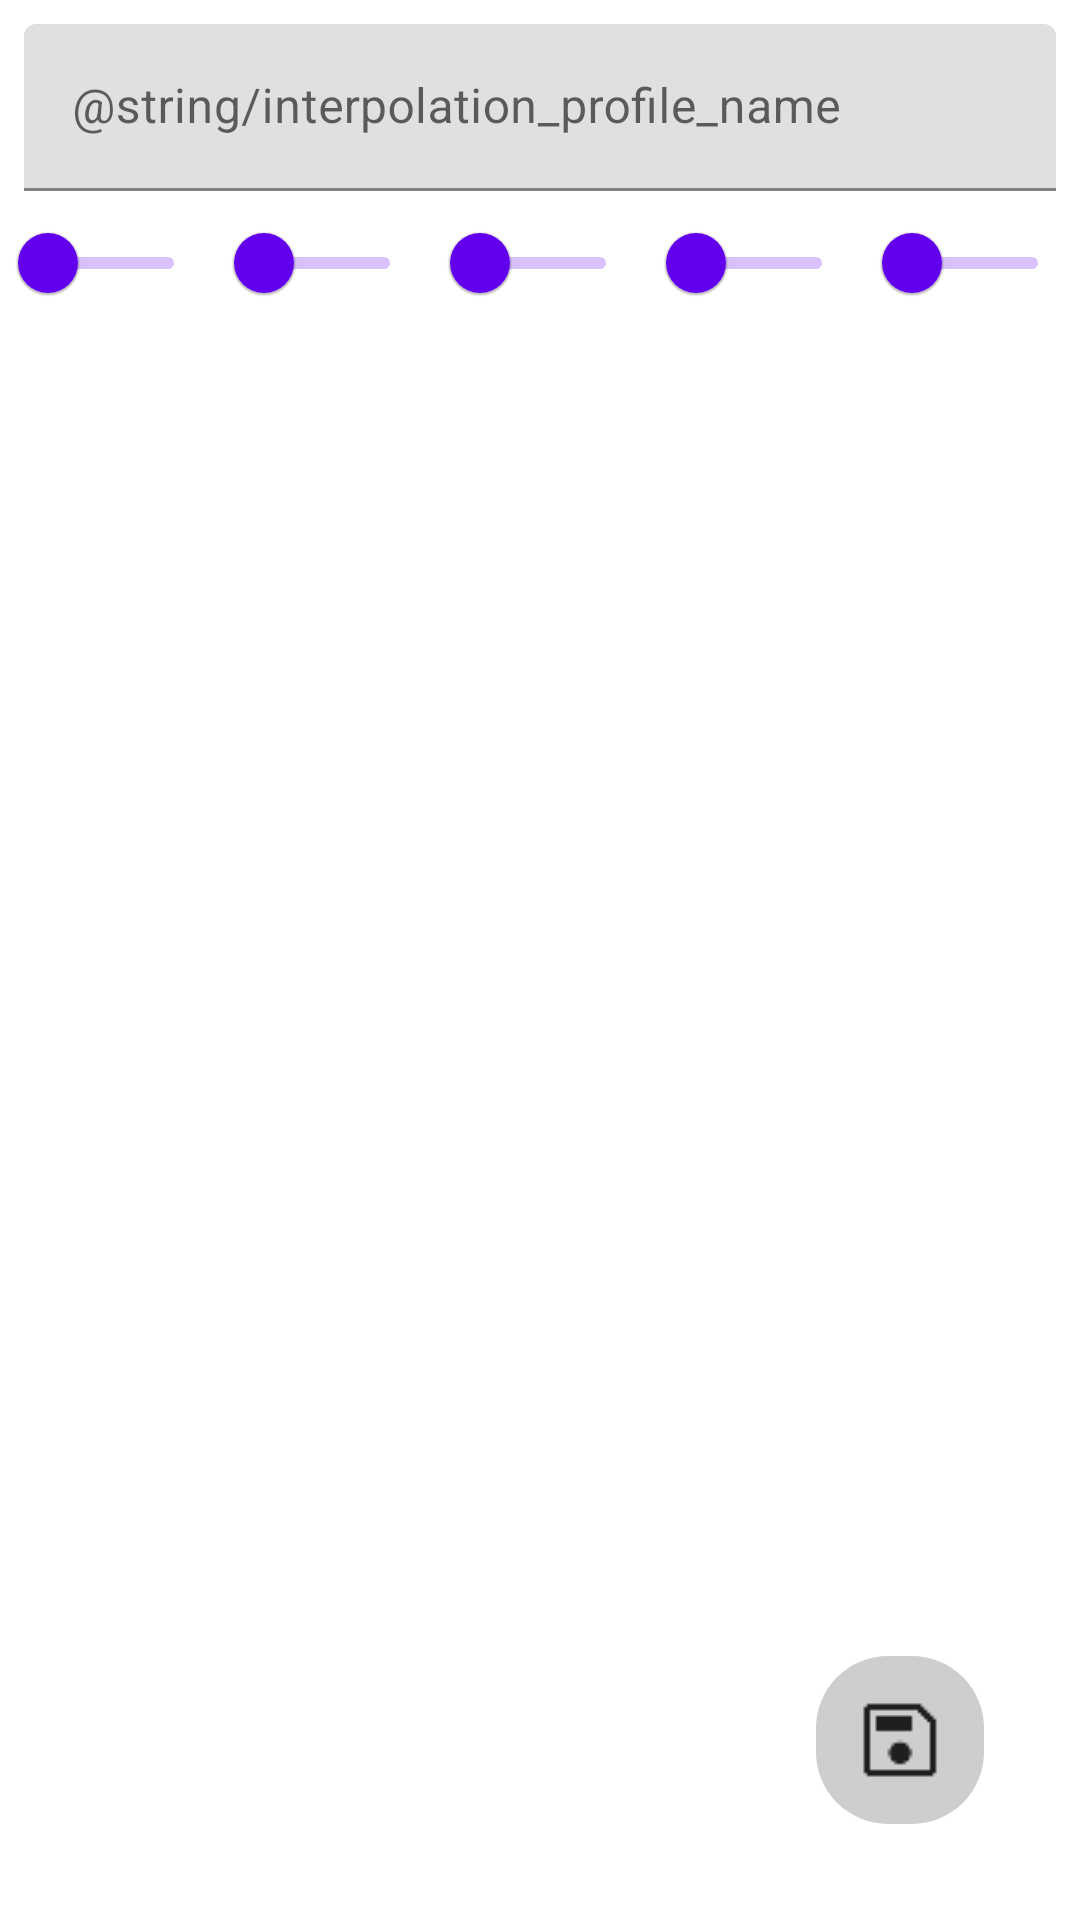

Screen size 1080w x 1920h. Icon name, then its box in pixels as (x1, y1, x2, y2):
save: (816, 1656, 984, 1824)
